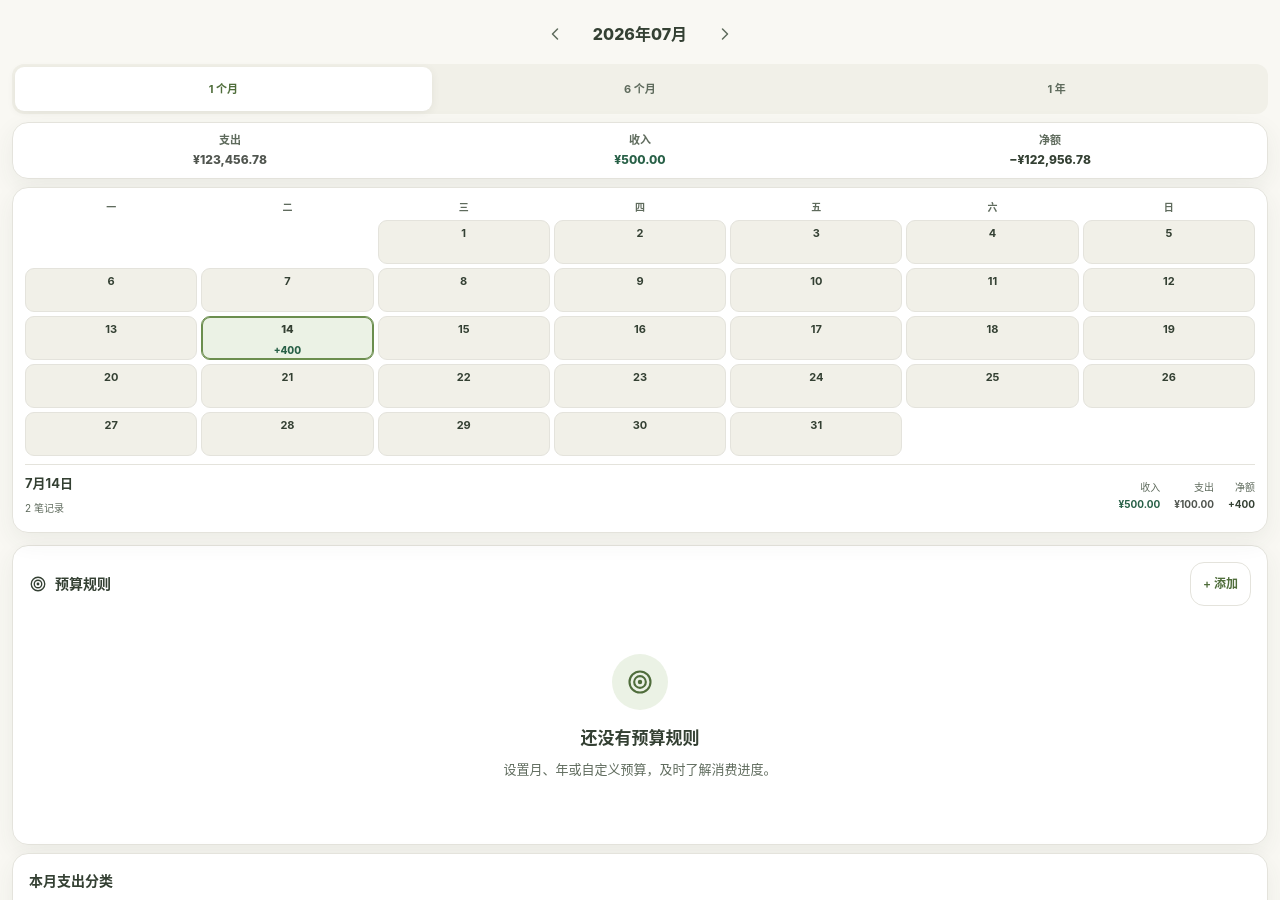
switches between the monthly calendar and longer trend periods
This screenshot has width=1280, height=900.
Expected: the element named "本月每日收支日历" is shown, 12,186 -> 1268,532
Click the button "6 个月" at {"x": 640, "y": 89}, box 432,67 -> 848,111
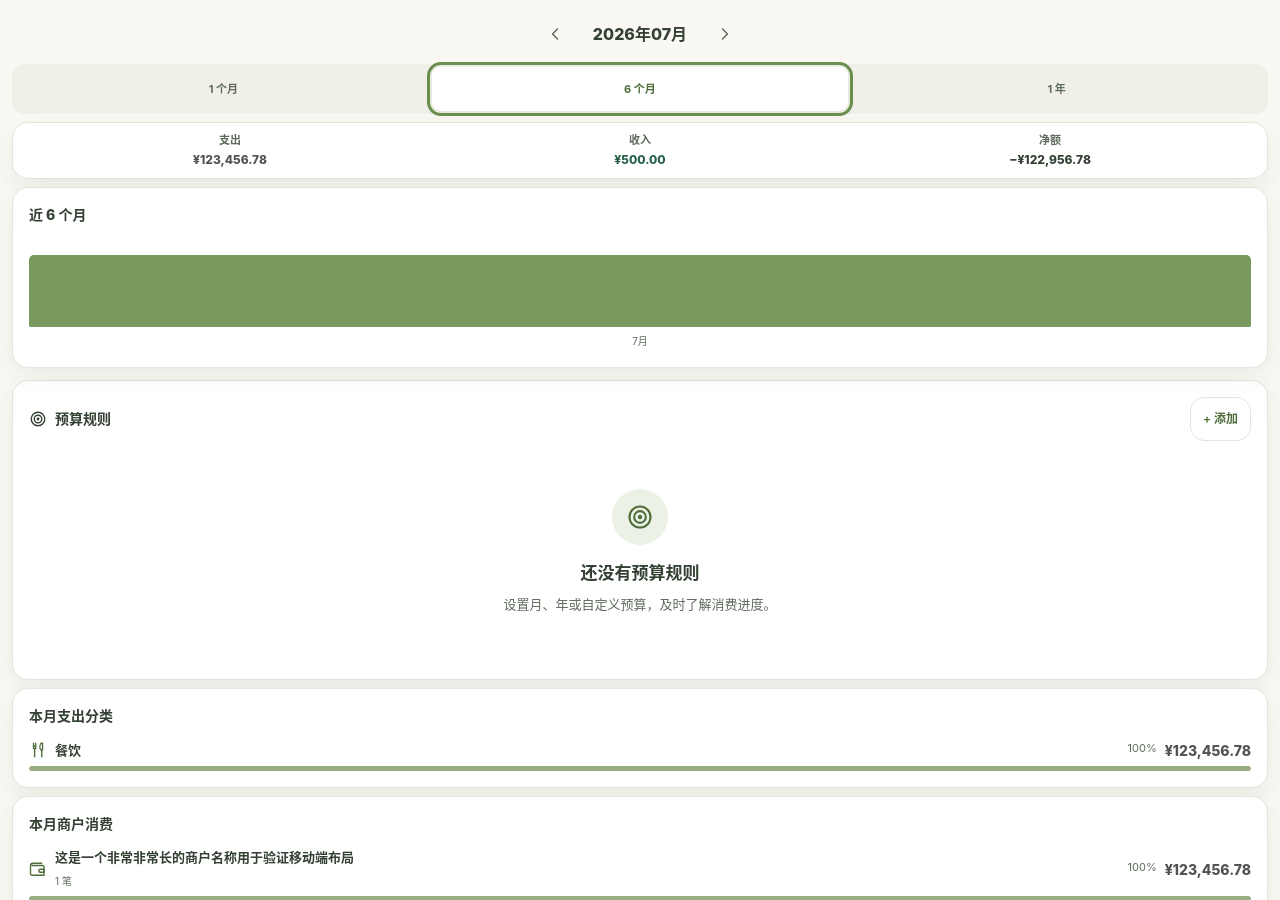
Expected: the heading "近 6 个月" is shown, 29,206 -> 86,222
Click the button "1 年" at {"x": 1057, "y": 89}, box 848,67 -> 1265,111
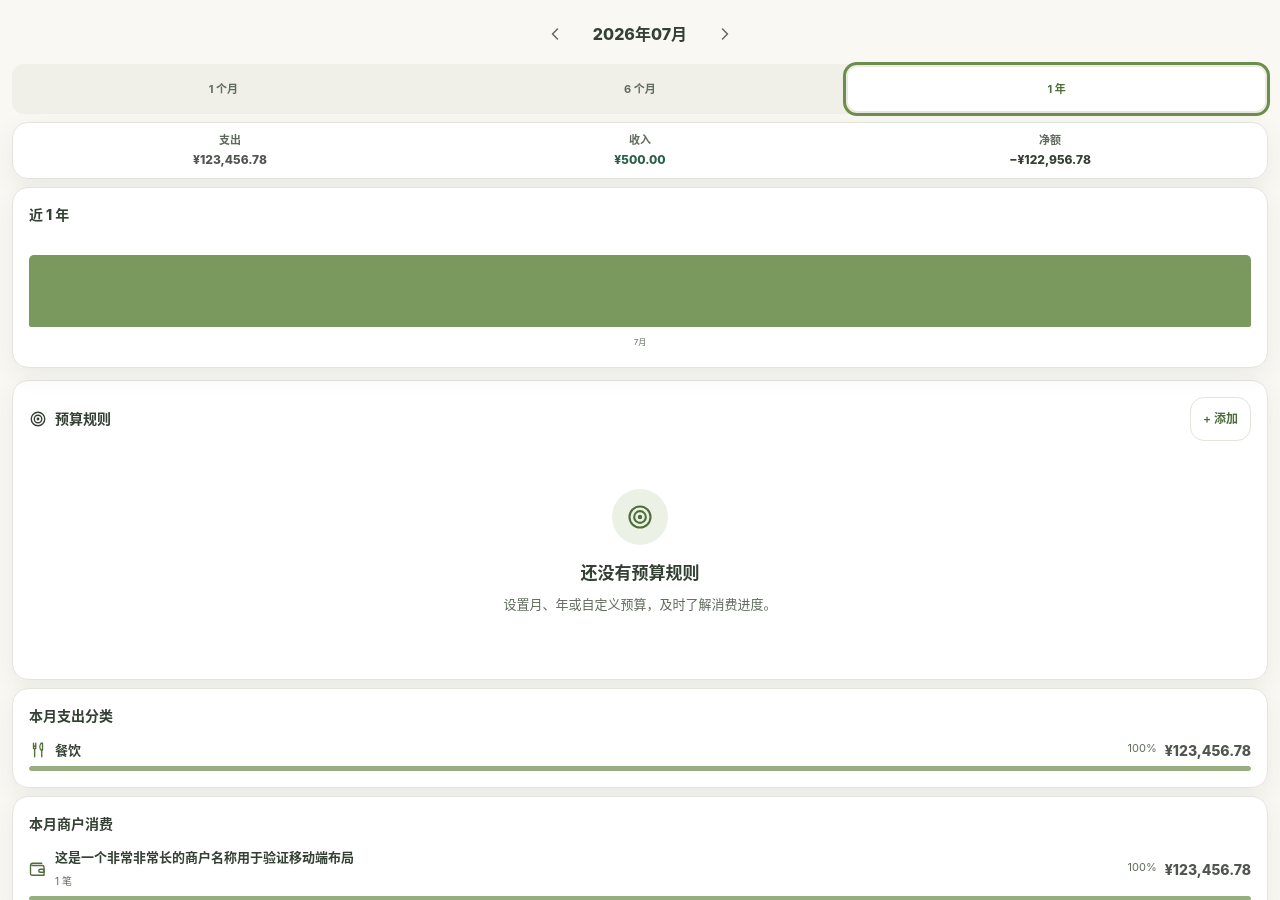
Expected: the heading "近 1 年" is shown, 29,206 -> 69,222
Click the button "1 个月" at {"x": 223, "y": 89}, box 15,67 -> 432,111
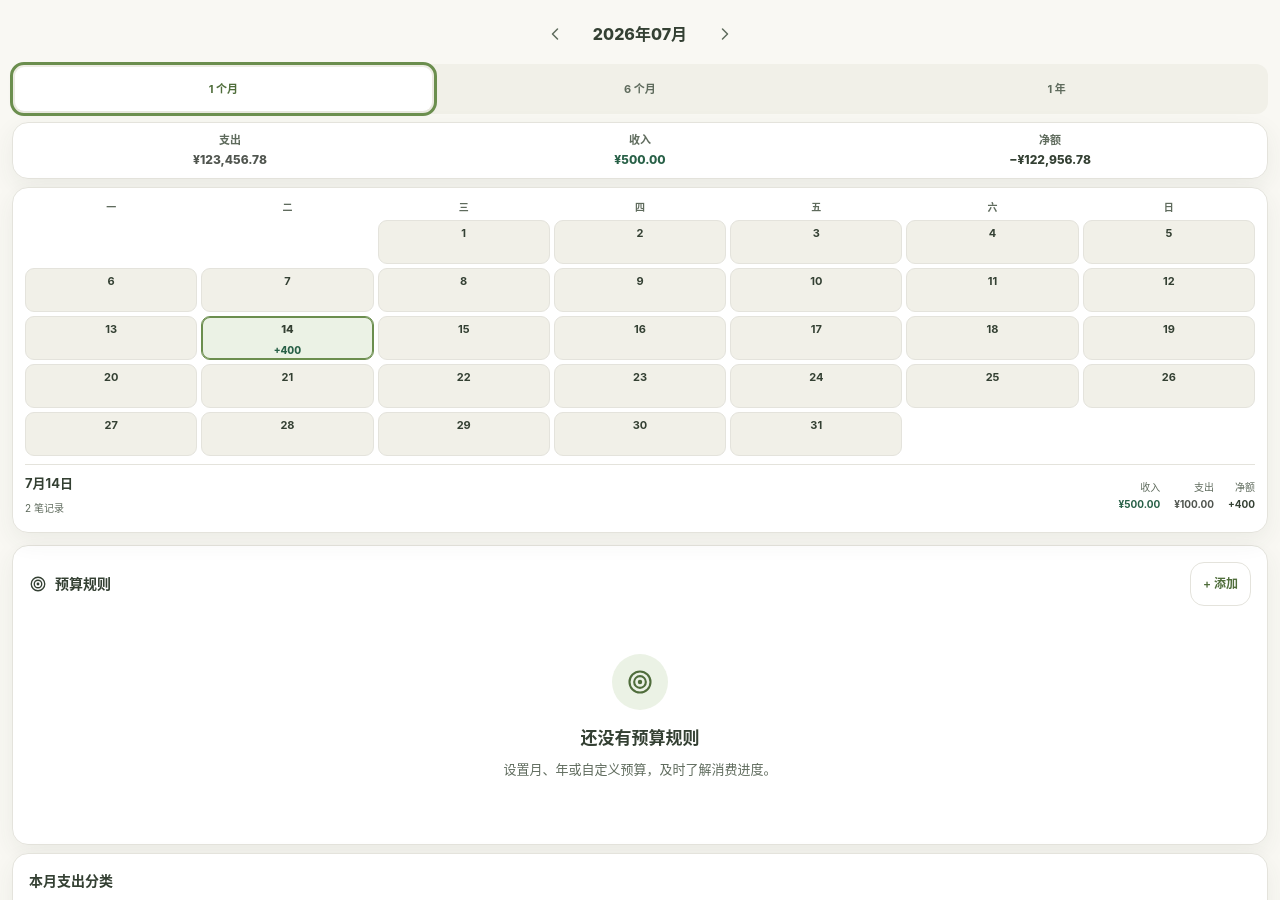
Expected: the element named "本月每日收支日历" is shown, 12,186 -> 1268,532
